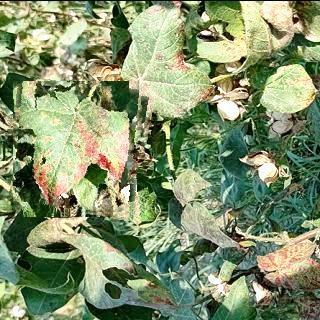blight: (13, 80, 150, 216)
